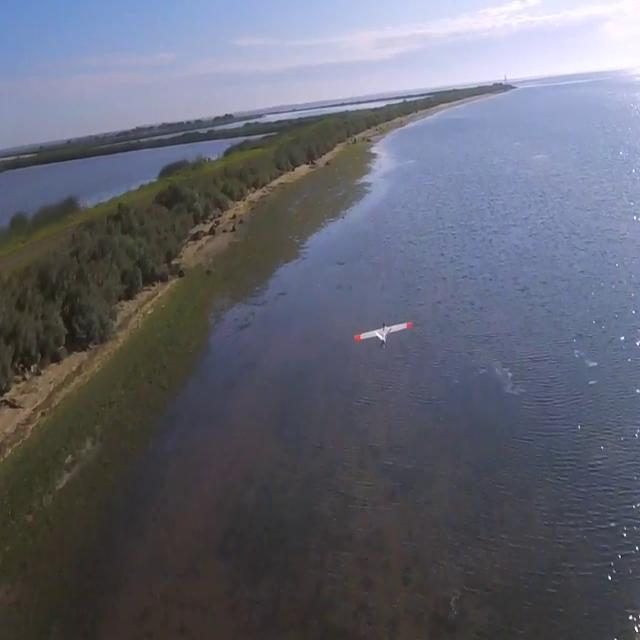iha: (354, 319, 411, 352)
